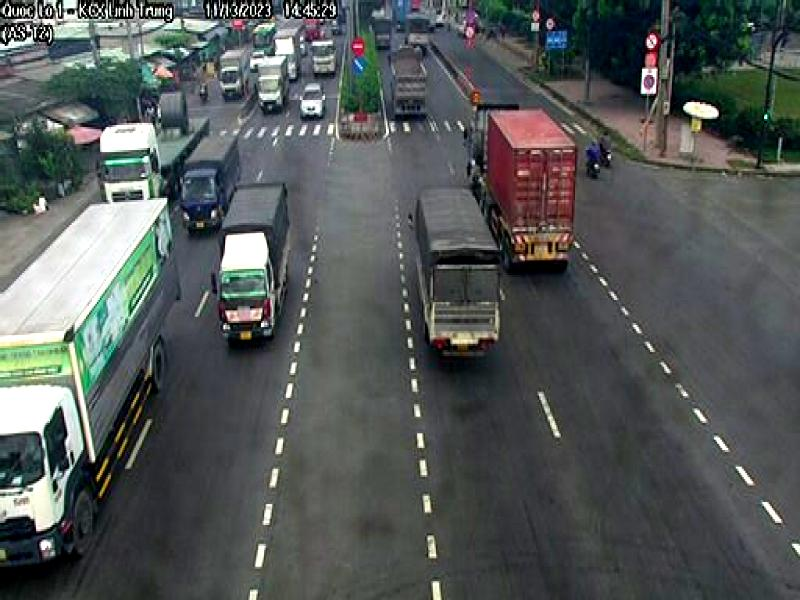truck: (0, 193, 182, 573), (222, 181, 291, 345), (180, 137, 241, 237)
